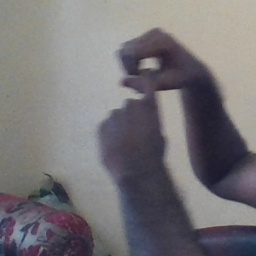Q: (91, 25, 192, 161)
